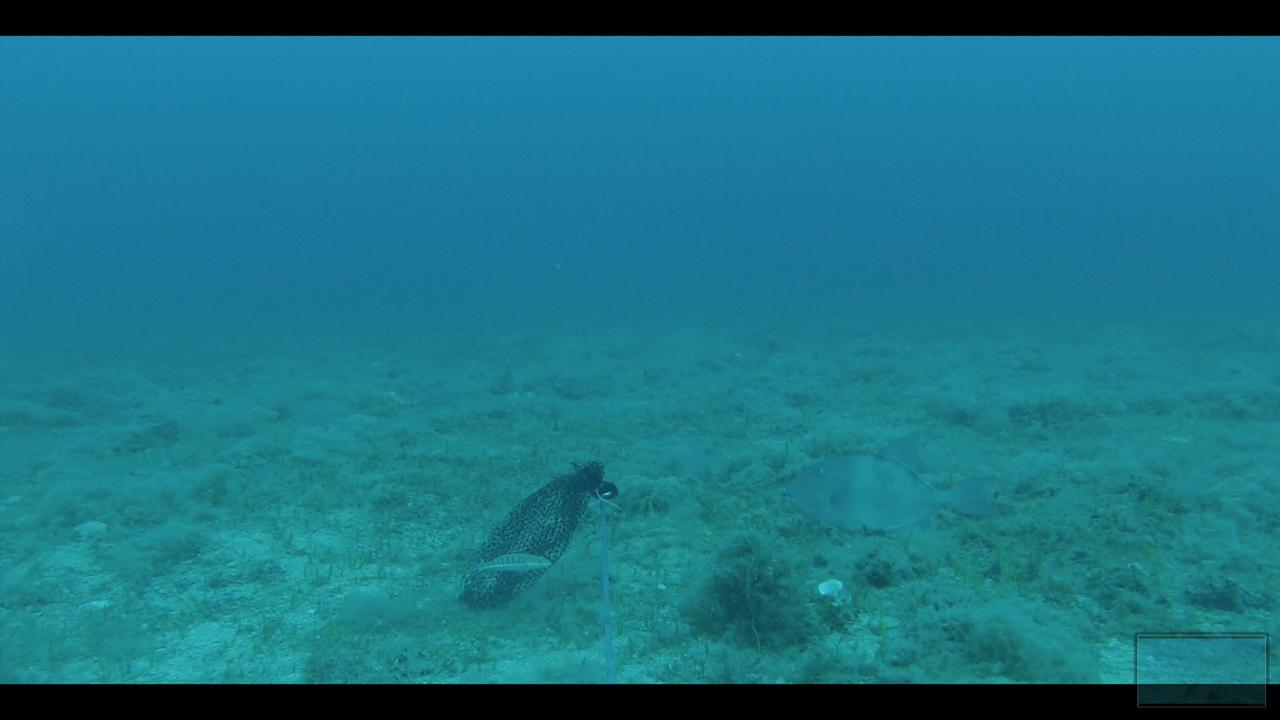balistes: (777, 431, 1014, 546)
